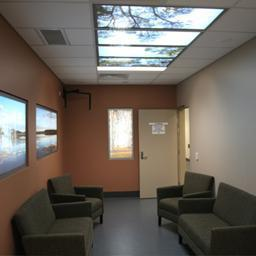Puerta: (137, 110, 179, 195)
